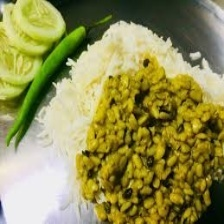rice: (75, 20, 224, 82)
